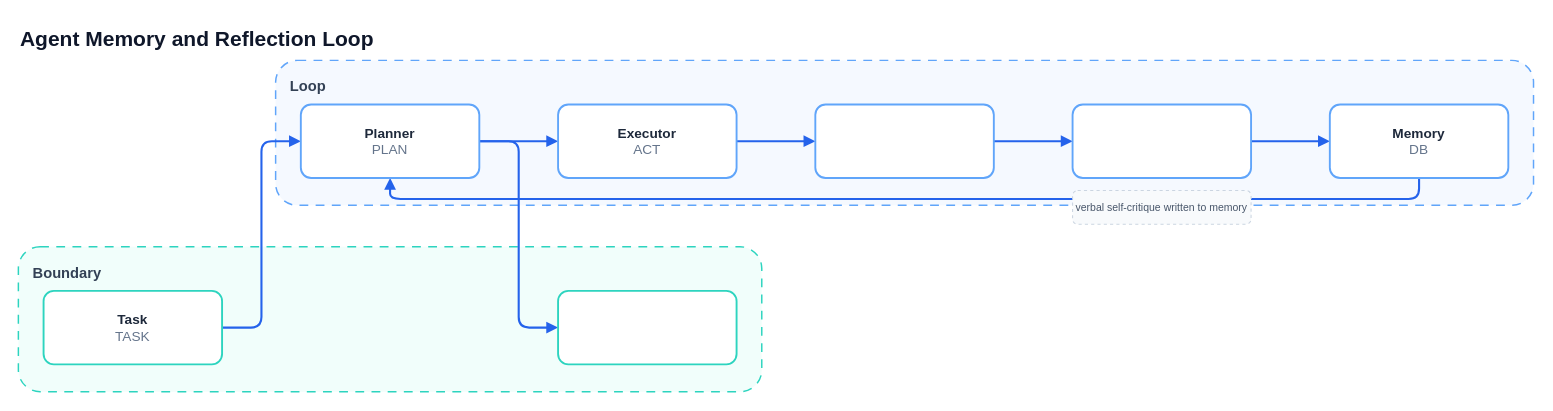
The diagram is 1553 pixels wide and 411 high, and some of its shapes have lost their labels. Here are the shapes that lost their labels. From the top down, the centre of each, then its label:
At pixel 904 140: "Observation OBS".
At pixel 1161 140: "Reflection REFLECT".
At pixel 647 327: "Next Action LOOP".
